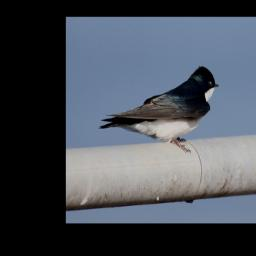Swallow: (99, 66, 219, 154)
